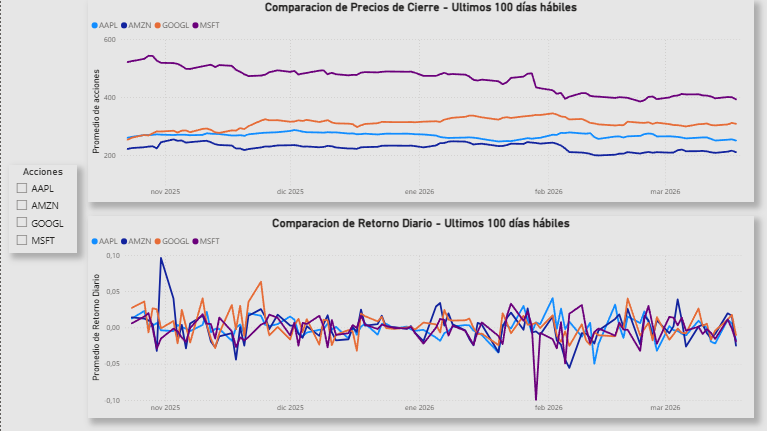

The page's visual inventory and layout, read from the dashboard file:
{"tool":"powerbi","page":{"name":"Comparacion","canvas":[1280,720],"ordinal":1},"visuals":[{"type":"slicer","title":"Acciones","fields":{"Values":["stock_metrics.symbol"]},"box":[12.9,275.7,112.9,145.7],"z":0},{"type":"lineChart","title":"Comparacion de Precios de Cierre - Ultimos 100 días hábiles","fields":{"Category":["stock_metrics.date"],"Y":["Avg(stock_metrics.close)"],"Series":["stock_metrics.symbol"]},"box":[144.3,0,1110,337.1],"z":1000},{"type":"lineChart","title":"Comparacion de Retorno Diario - Ultimos 100 días hábiles","fields":{"Category":["stock_metrics.date"],"Y":["Avg(stock_metrics.daily_return)"],"Series":["stock_metrics.symbol"]},"box":[144.3,360,1110,337.1],"z":2000}]}

Visuals, with their boxes on the page's 1280x720 design canvas (x1, y1, x2, y2). These are canvas units, not pixel positions in the 767x431 screenshot, which may show the page scaled, cropped or inside an application window:
"Acciones" slicer: {"x1": 13, "y1": 276, "x2": 126, "y2": 421}
"Comparacion de Precios de Cierre - Ultimos 100 días hábiles" lineChart: {"x1": 144, "y1": 0, "x2": 1254, "y2": 337}
"Comparacion de Retorno Diario - Ultimos 100 días hábiles" lineChart: {"x1": 144, "y1": 360, "x2": 1254, "y2": 697}
